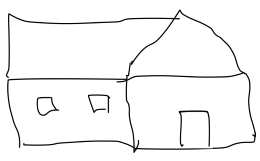big_house: (1, 1, 260, 161)
door: (171, 106, 222, 153)
open_window: (31, 93, 64, 119), (85, 87, 110, 120)
roof: (2, 8, 250, 87)
wall: (124, 67, 259, 153)
